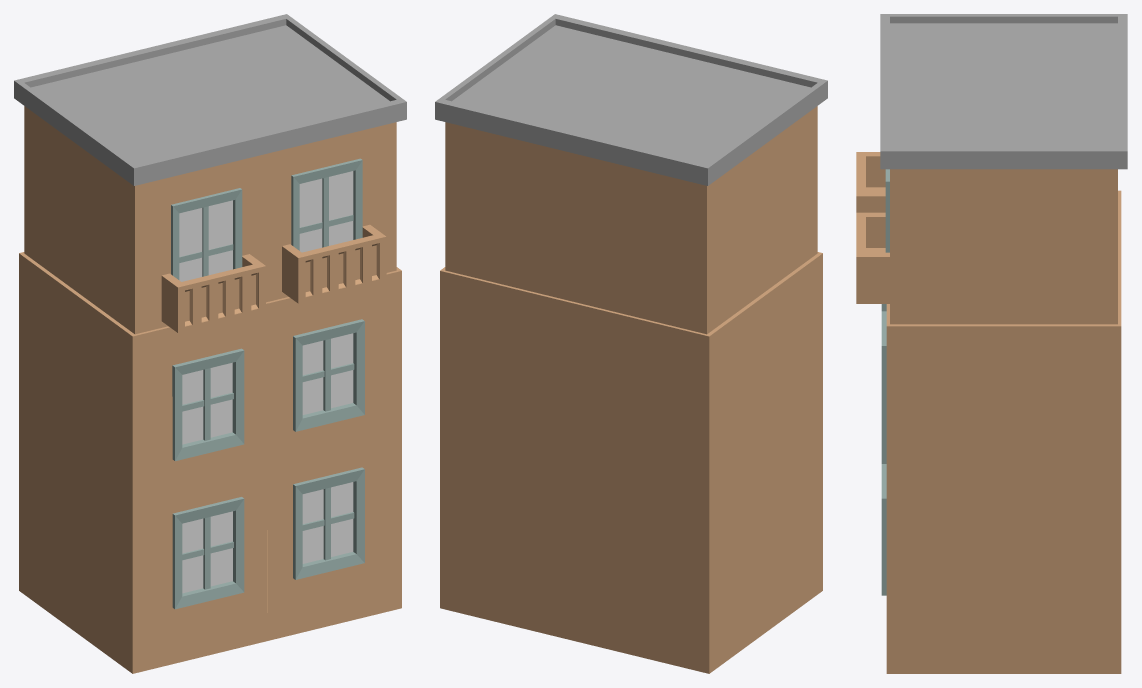
The model's file is buildingPeach.fbx.
3 renders of one model, left to right at view 1: azimuth 30°, elevation 25°; view 2: azimuth 150°, elevation 25°; view 3: azimuth 270°, elevation 25°, orthographic. The views are drawn at different scales.
Visible parts, largest first — view 1: Cube; view 2: Cube; view 3: Cube.
Boxes of the visible parts, x1,y1,x2,y2 form: Cube: (14,14,406,673); Cube: (435,14,827,673); Cube: (856,14,1127,673).
Size of the model in its own units: 417 by 742 by 349.
